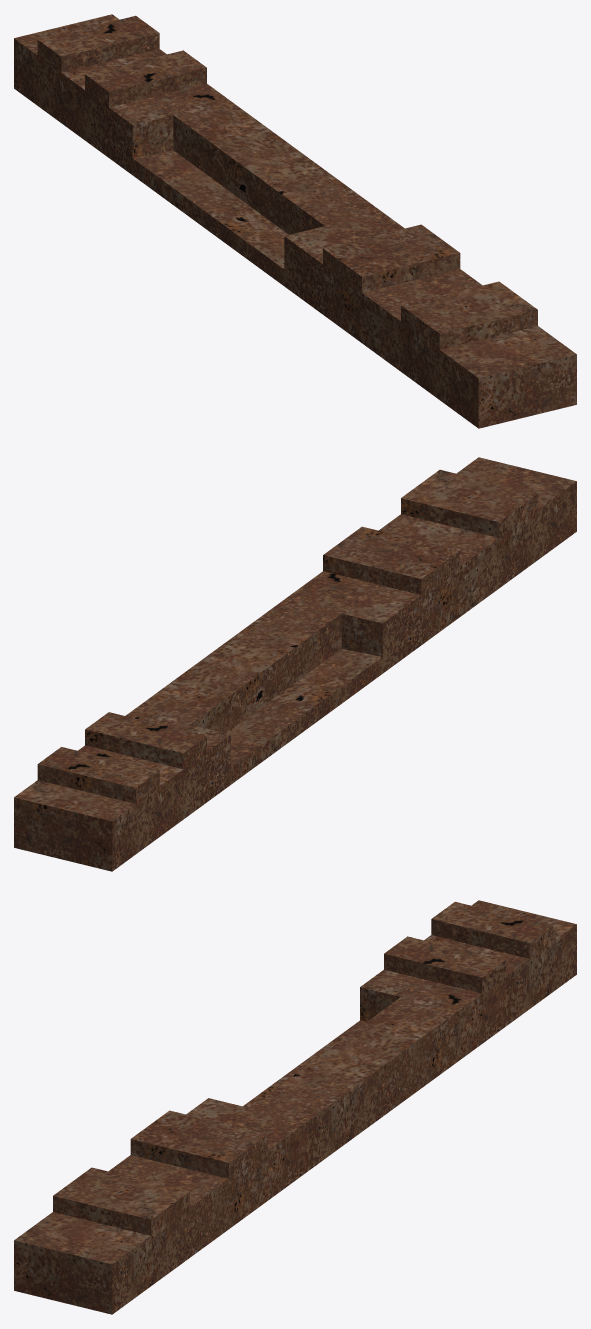
The model's file is zelezna_vrata_nosilec.obj.
3 renders of one model, top to bottom at view 1: azimuth 30°, elevation 25°; view 2: azimuth 150°, elevation 25°; view 3: azimuth 330°, elevation 25°, orthographic.
Parts seen in each view (by area): view 1: zelezna_vrata_nosilec_Cube.004; view 2: zelezna_vrata_nosilec_Cube.004; view 3: zelezna_vrata_nosilec_Cube.004.
Part boxes in pixels (bbox=[...]): zelezna_vrata_nosilec_Cube.004: bbox=[14, 14, 576, 428]; zelezna_vrata_nosilec_Cube.004: bbox=[14, 457, 576, 871]; zelezna_vrata_nosilec_Cube.004: bbox=[14, 900, 576, 1314].
Bounding box in the file's own units: 0.5837 × 0.3769 × 4.78.
1 material, 1 textured.
